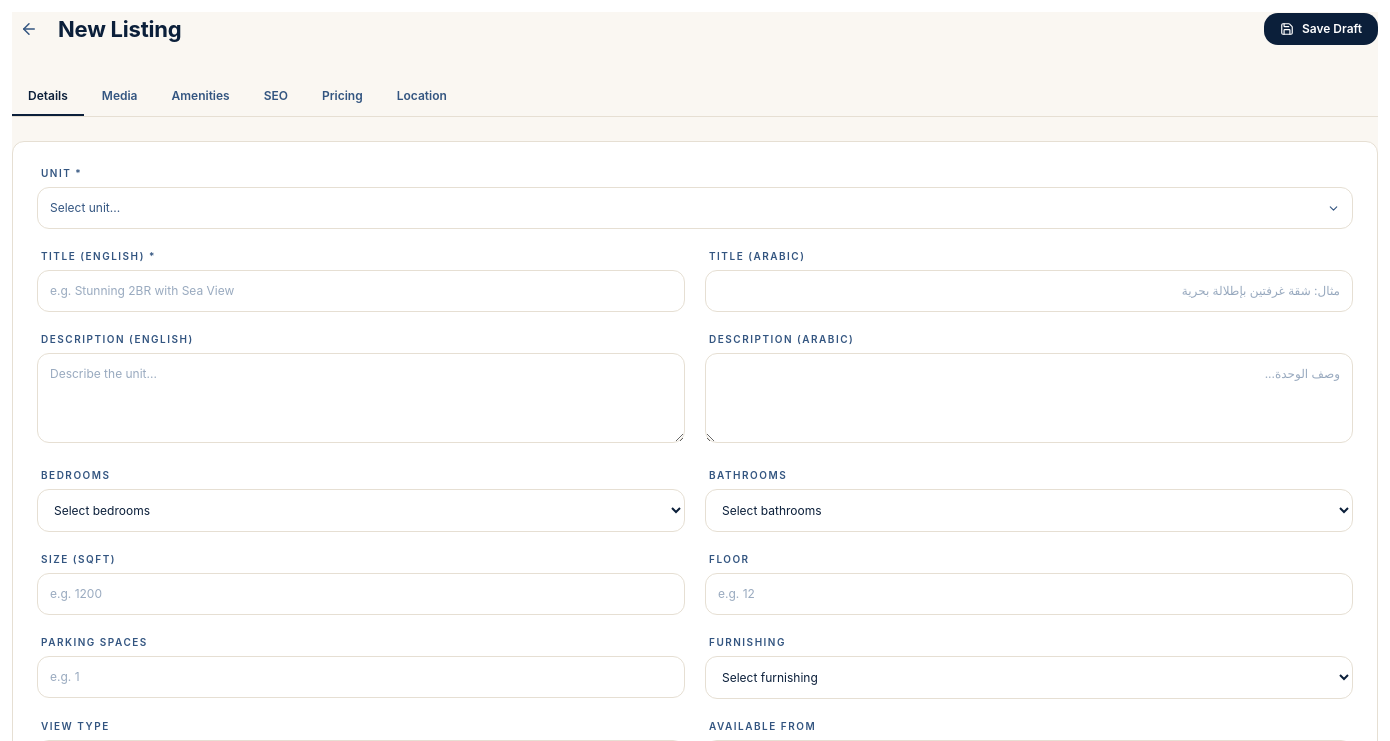
Scenario: Listing edit: unit field is the server-backed UnitPicker › searches units on the server for a new listing, and picks one by id
Click the dropdown with test id "listing-unit-picker". click: (85, 208)
box: [37,187,1353,229]
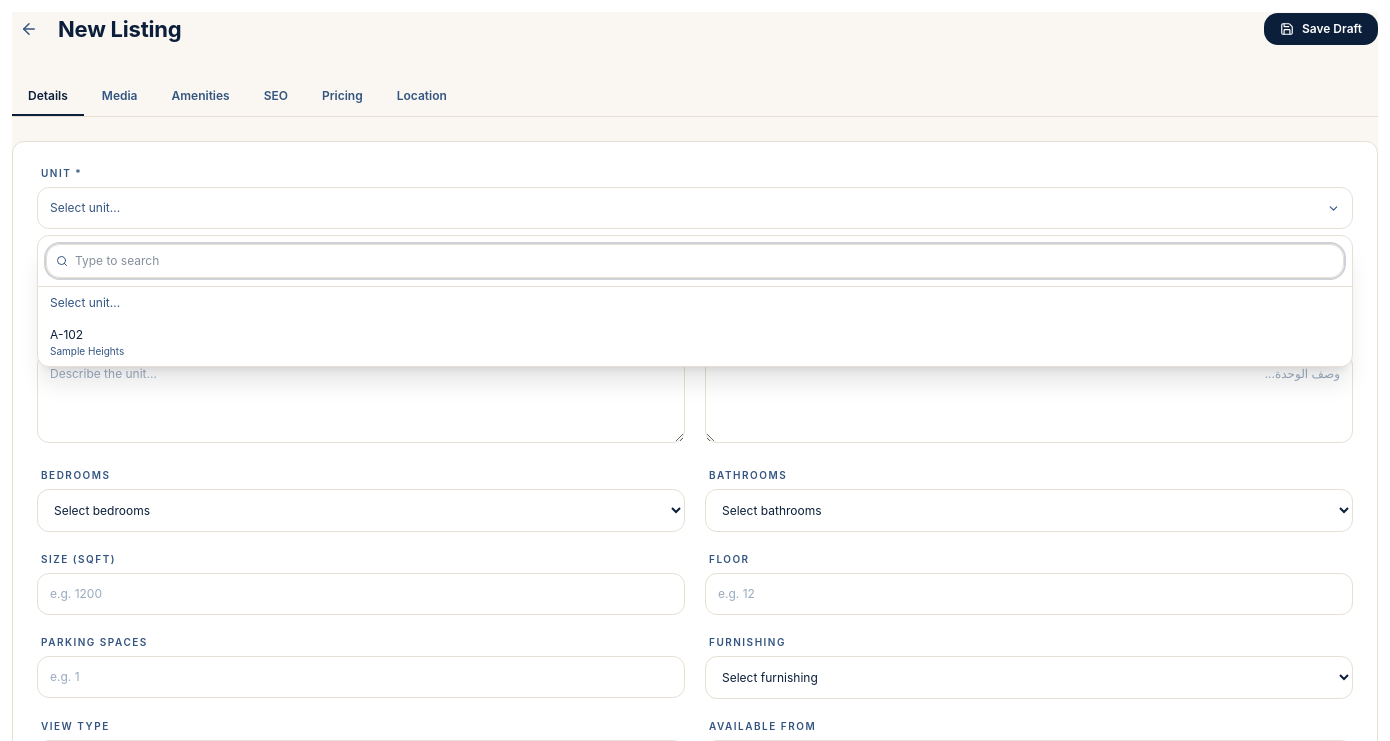
Click the option "A-102 Sample Heights". click: (67, 334)
box: [38,319,1352,366]
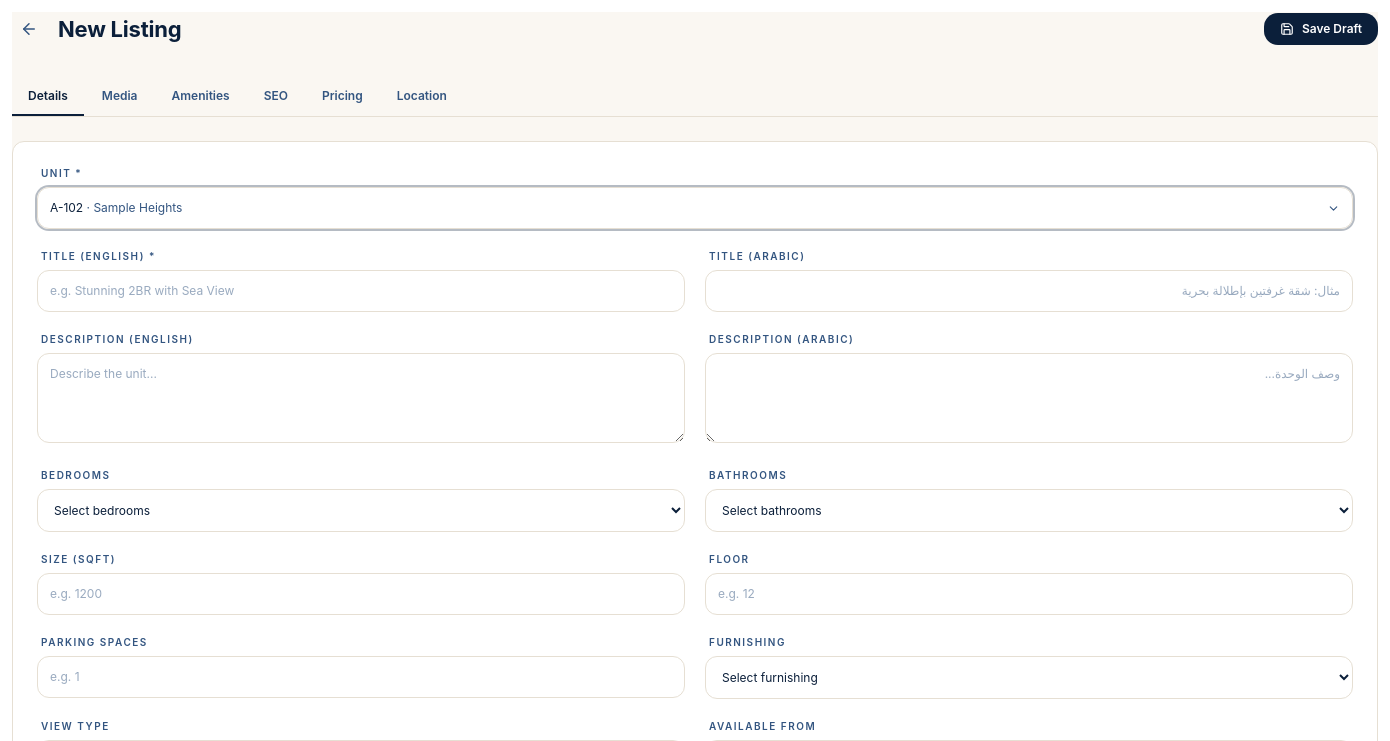
Expected: the dropdown with test id "listing-unit-picker" shows "A-102", [37,187,1353,229]
